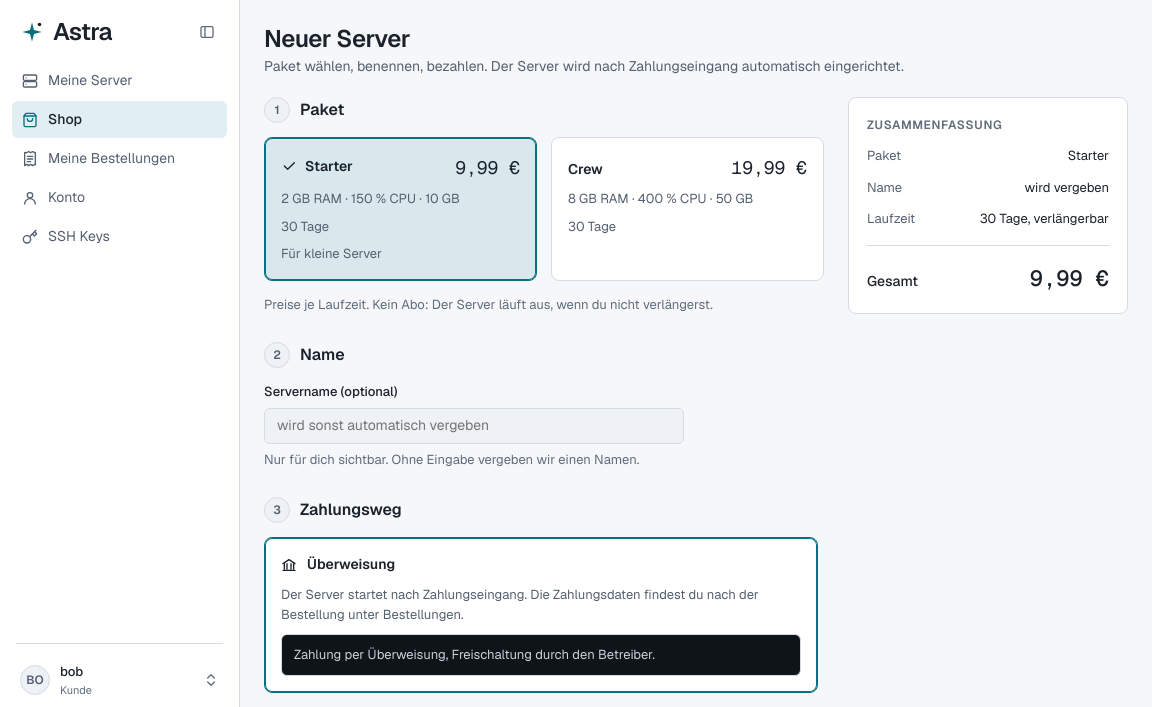
it: ShopPage › aktualisiert die Zusammenfassung bei Paket- und Namenswahl
Expected: the element named "Paket" is shown, [264, 137, 824, 280]
Expected: the text "Starter" is shown, [1068, 146, 1109, 166]
Click the radio button labelled "Crew 19,99 € 8 GB RAM · 400 % CPU · 50 GB 30 Tage" at (688, 209), box [551, 137, 824, 280]
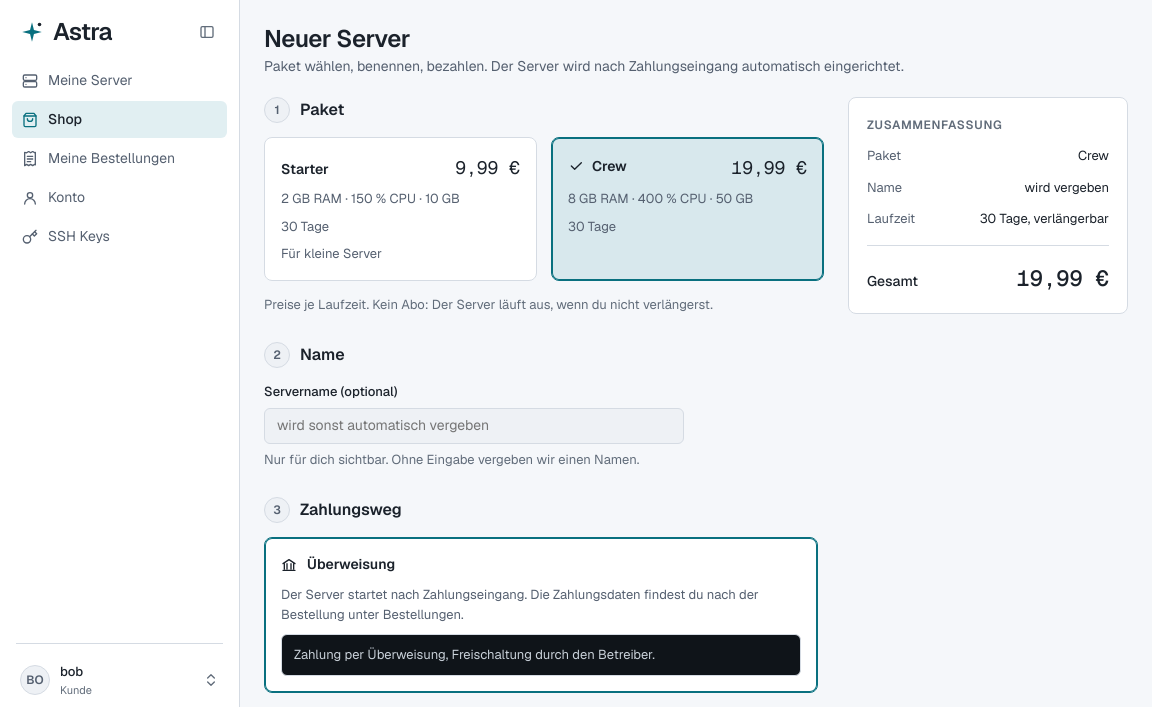
Type "Freitagsrunde" into the field labelled "Servername (optional)" at (474, 426), box [264, 408, 684, 444]
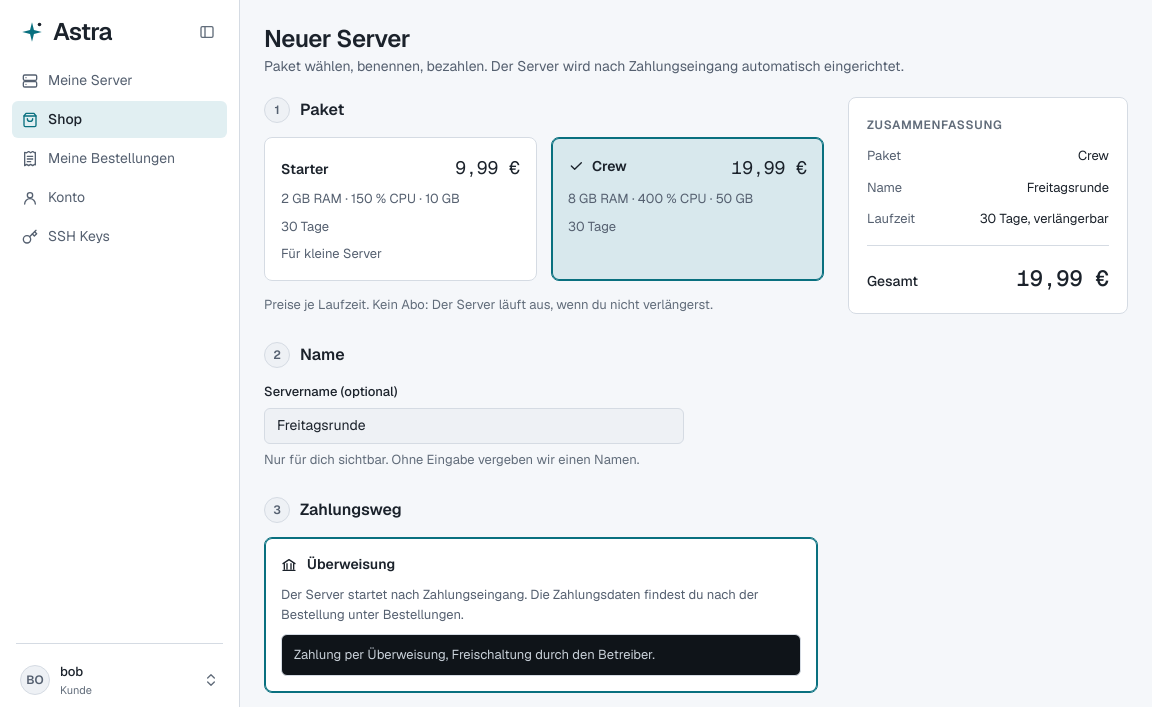
Expected: the text "30 Tage, verlängerbar" is shown, [980, 209, 1109, 228]
Expected: the text "Crew" is shown, [1078, 146, 1109, 166]
Expected: the text "Freitagsrunde" is shown, [1027, 178, 1109, 197]
